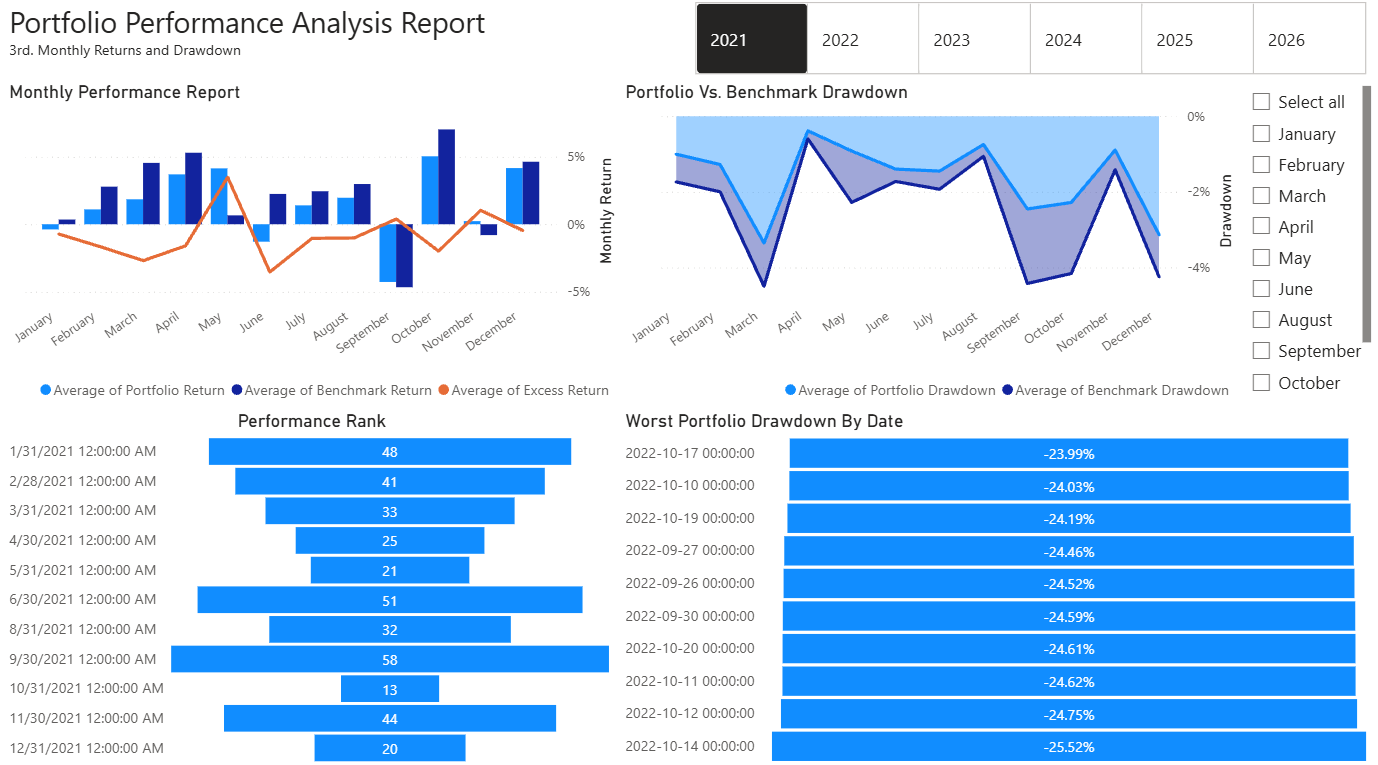

What the dashboard file says about the page in this screenshot:
{"tool":"powerbi","page":{"name":"Page 3","canvas":[1280,720],"ordinal":2},"visuals":[{"type":"textbox","box":[0,0,639.5,77.9],"z":0},{"type":"lineClusteredColumnComboChart","title":"Monthly Performance Report","fields":{"Category":["analysis_monthly_excess.Date.Variation.Date Hierarchy.Month"],"Y":["Avg(analysis_monthly_excess.Portfolio_Monthly_Return)","Avg(analysis_monthly_excess.Benchmark_Monthly_Return)"],"Y2":["Avg(analysis_monthly_excess.excess_return)"]},"box":[0,77.9,574.4,307],"z":1000},{"type":"advancedSlicerVisual","fields":{"Values":["fact_portfolio_returns.Year"]},"box":[639.5,0,640.7,77.9],"z":2000},{"type":"funnel","title":"Performance Rank","fields":{"Y":["Sum(analysis_contribution_summary.performance_rank)"],"Category":["analysis_contribution_summary.Date"]},"box":[0,384.9,574.4,336],"z":3000},{"type":"slicer","fields":{"Values":["fact_monthly_returns.Month Name"]},"box":[1152.3,77.9,127.9,298.8],"z":4000},{"type":"stackedAreaChart","title":"Portfolio Vs. Benchmark Drawdown","fields":{"Category":["fact_portfolio_returns.Month Name"],"Y":["Avg(fact_portfolio_returns.Portfolio_Drawdown)","Avg(fact_portfolio_returns.Benchmark_Drawdown)"]},"box":[574.4,77.9,577.9,307],"z":5000},{"type":"funnel","title":"Worst Portfolio Drawdown By Date","fields":{"Category":["analysis_worst_drawdowns.Date"],"Y":["Avg(analysis_worst_drawdowns.Portfolio_Drawdown)"]},"box":[574.4,384.9,705.8,336],"z":6000}]}

Visuals, with their boxes in screenshot pixels (x1, y1, x2, y2), scaled from the page's 1280x720 canvas onto the 1378x765 screenshot:
textbox: bbox(0, 0, 688, 83)
"Monthly Performance Report" lineClusteredColumnComboChart: bbox(0, 83, 618, 409)
advancedSlicerVisual - fact_portfolio_returns.Year: bbox(688, 0, 1377, 83)
"Performance Rank" funnel: bbox(0, 409, 618, 764)
slicer - fact_monthly_returns.Month Name: bbox(1241, 83, 1377, 400)
"Portfolio Vs. Benchmark Drawdown" stackedAreaChart: bbox(618, 83, 1241, 409)
"Worst Portfolio Drawdown By Date" funnel: bbox(618, 409, 1377, 764)
